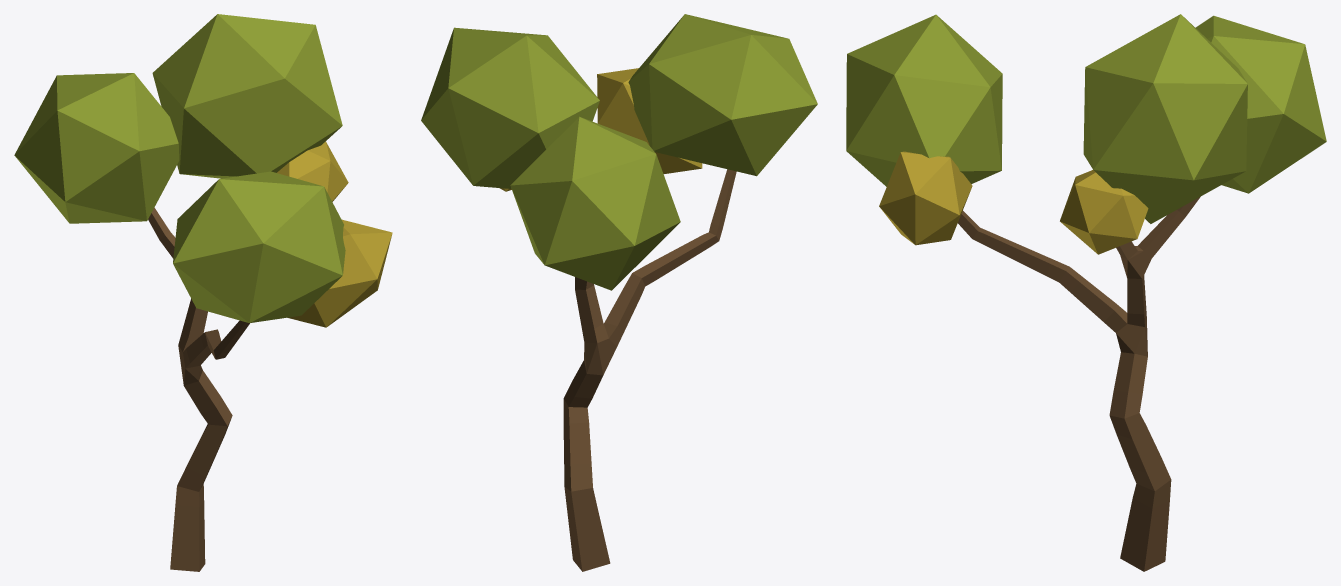
File: ico_tree_yellow.glb
3 views of the same model, side by side, from view 1: azimuth 30°, elevation 25°; view 2: azimuth 150°, elevation 25°; view 3: azimuth 270°, elevation 25° (orthographic). The views are drawn at different scales.
Parts seen in each view (by area): view 1: Icosphere.058, Icosphere.060, Icosphere.059, Cube.013, Icosphere.062, Icosphere.061; view 2: Icosphere.060, Icosphere.059, Icosphere.058, Cube.013, Icosphere.062; view 3: Icosphere.058, Icosphere.060, Cube.013, Icosphere.059, Icosphere.062, Icosphere.061.
Part boxes in pixels (bbox=[...]): Icosphere.058: bbox=[152, 14, 342, 178]; Icosphere.060: bbox=[173, 171, 345, 323]; Icosphere.059: bbox=[14, 73, 179, 223]; Cube.013: bbox=[148, 207, 249, 571]; Icosphere.062: bbox=[287, 219, 392, 327]; Icosphere.061: bbox=[277, 141, 348, 201]; Icosphere.060: bbox=[628, 14, 817, 176]; Icosphere.059: bbox=[510, 116, 680, 290]; Icosphere.058: bbox=[421, 27, 599, 188]; Cube.013: bbox=[563, 169, 736, 571]; Icosphere.062: bbox=[597, 68, 702, 173]; Icosphere.058: bbox=[1083, 14, 1247, 223]; Icosphere.060: bbox=[846, 14, 1002, 186]; Cube.013: bbox=[958, 196, 1200, 571]; Icosphere.059: bbox=[1195, 15, 1326, 193]; Icosphere.062: bbox=[879, 151, 972, 245]; Icosphere.061: bbox=[1060, 170, 1148, 254].
Size of the model in its own units: 8.95 by 16.92 by 12.86.
